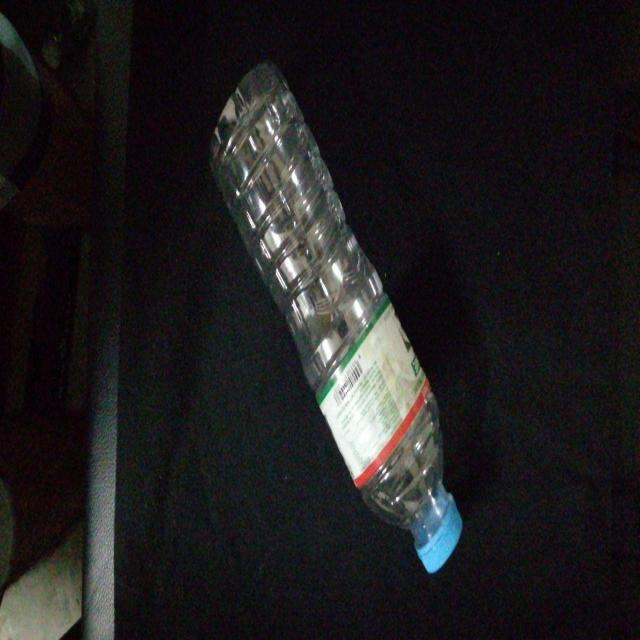Pet_Bottle: (212, 68, 461, 576)
